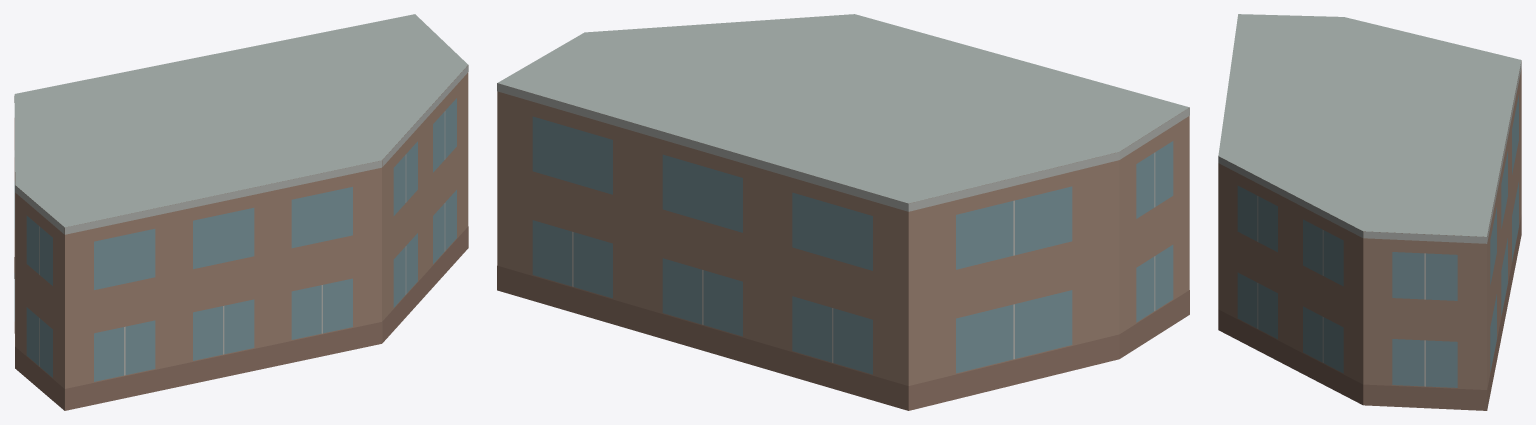
The model's file is survey-upis-32993915.glb.
3 renders of one model, left to right at view 1: azimuth 30°, elevation 25°; view 2: azimuth 150°, elevation 25°; view 3: azimuth 270°, elevation 25°, orthographic. The views are drawn at different scales.
Visible parts, largest first — view 1: survey-upis-32993915.tmp; view 2: survey-upis-32993915.tmp; view 3: survey-upis-32993915.tmp.
Boxes of the visible parts, x1,y1,x2,y2 form: survey-upis-32993915.tmp: (14, 14, 468, 410); survey-upis-32993915.tmp: (497, 14, 1189, 410); survey-upis-32993915.tmp: (1218, 14, 1521, 410).
Bounding box in the file's own units: 16.77 × 6.1 × 9.65.
